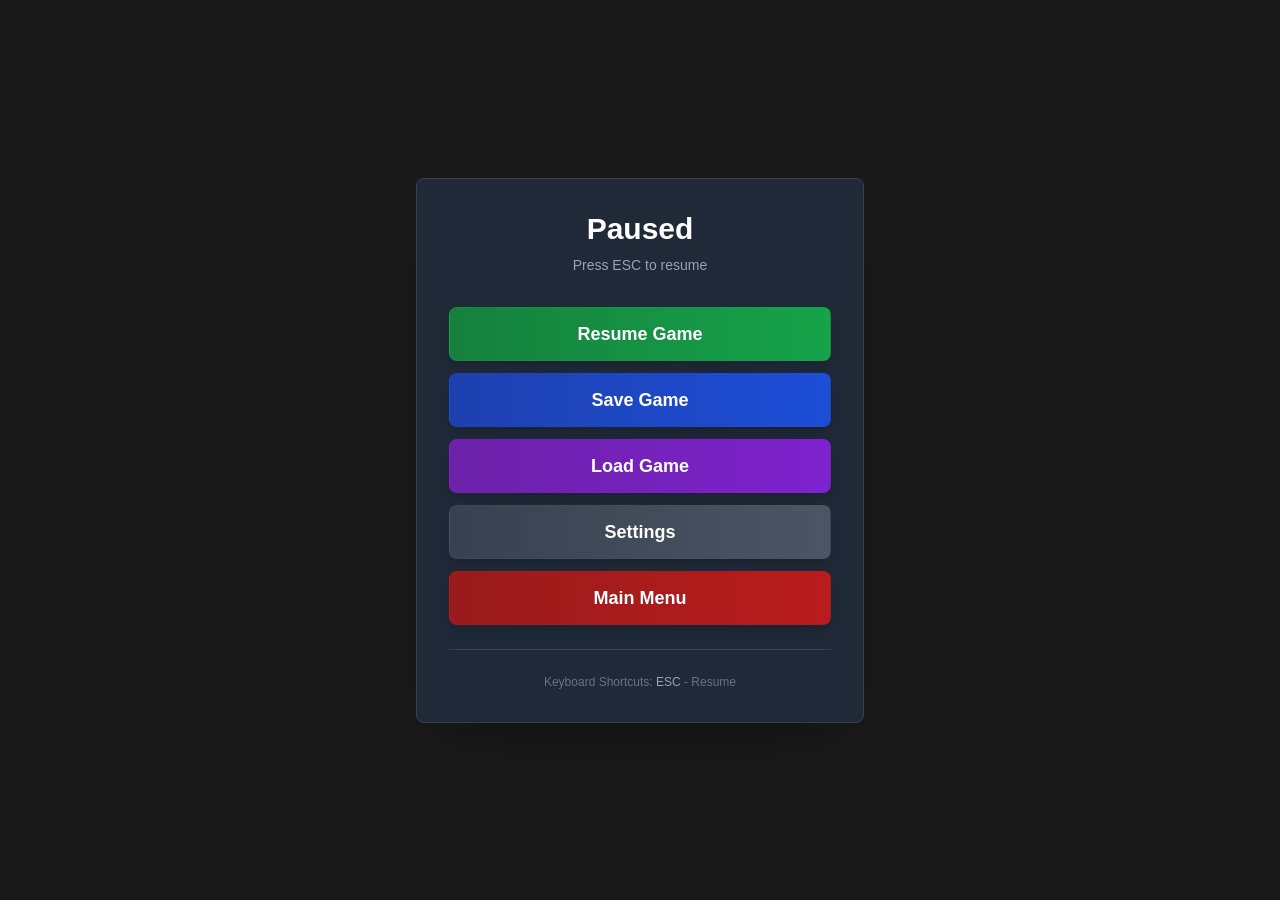
PauseMenu › Save Game Button › should open save/load menu
Click the button "Save Game".
click(640, 400)  # box [449,372,831,426]
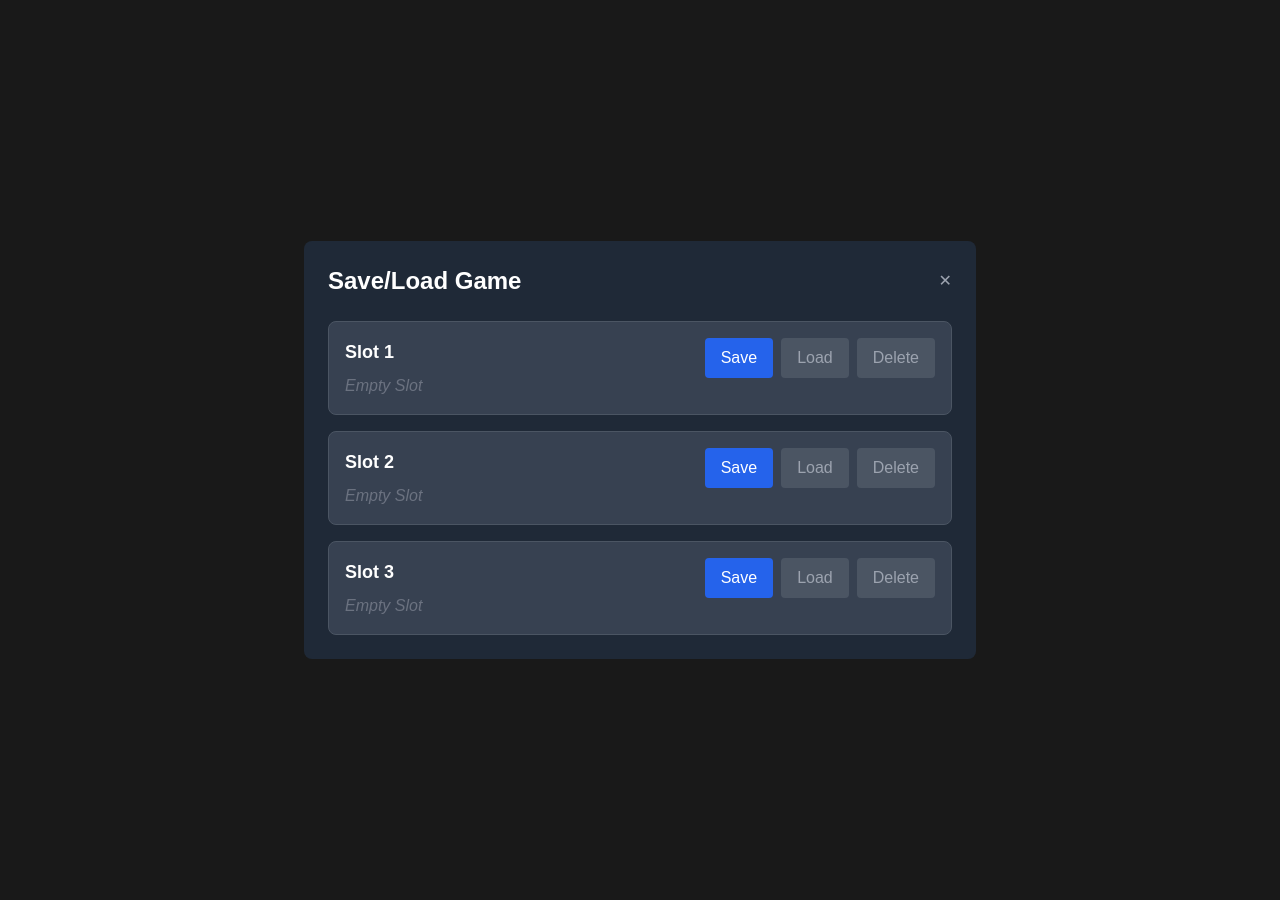
Expected: the heading "Save/Load Game" is shown, [328,265,521,297]
